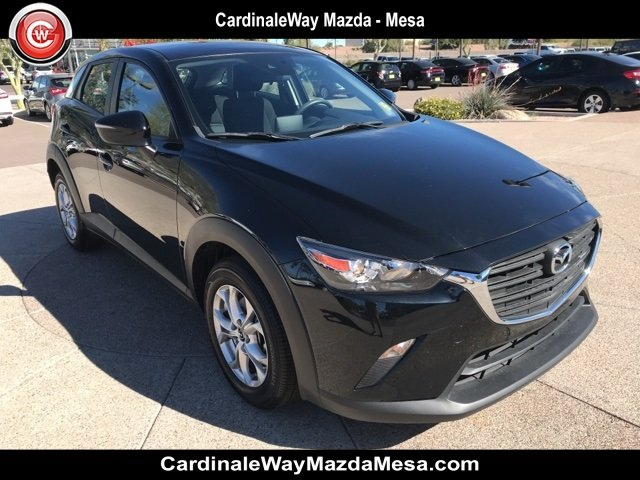Mazda3 Hatchback: (45, 40, 605, 426)
